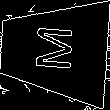M_W: (31, 26, 77, 76)
